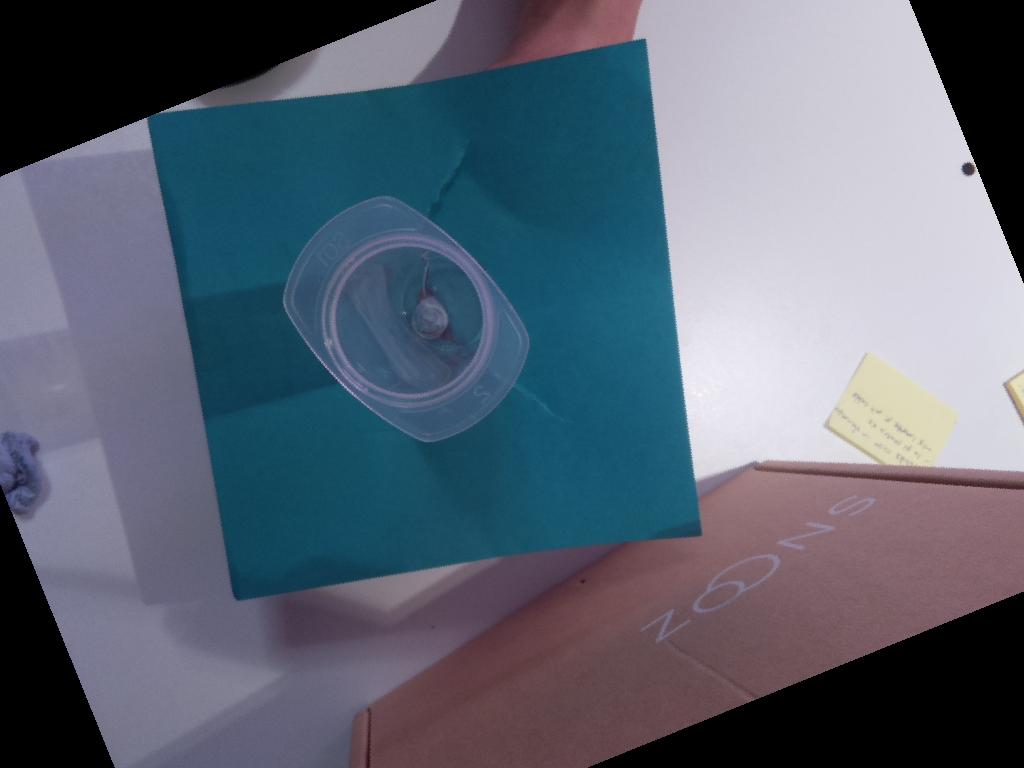clean: (281, 195, 531, 444)
